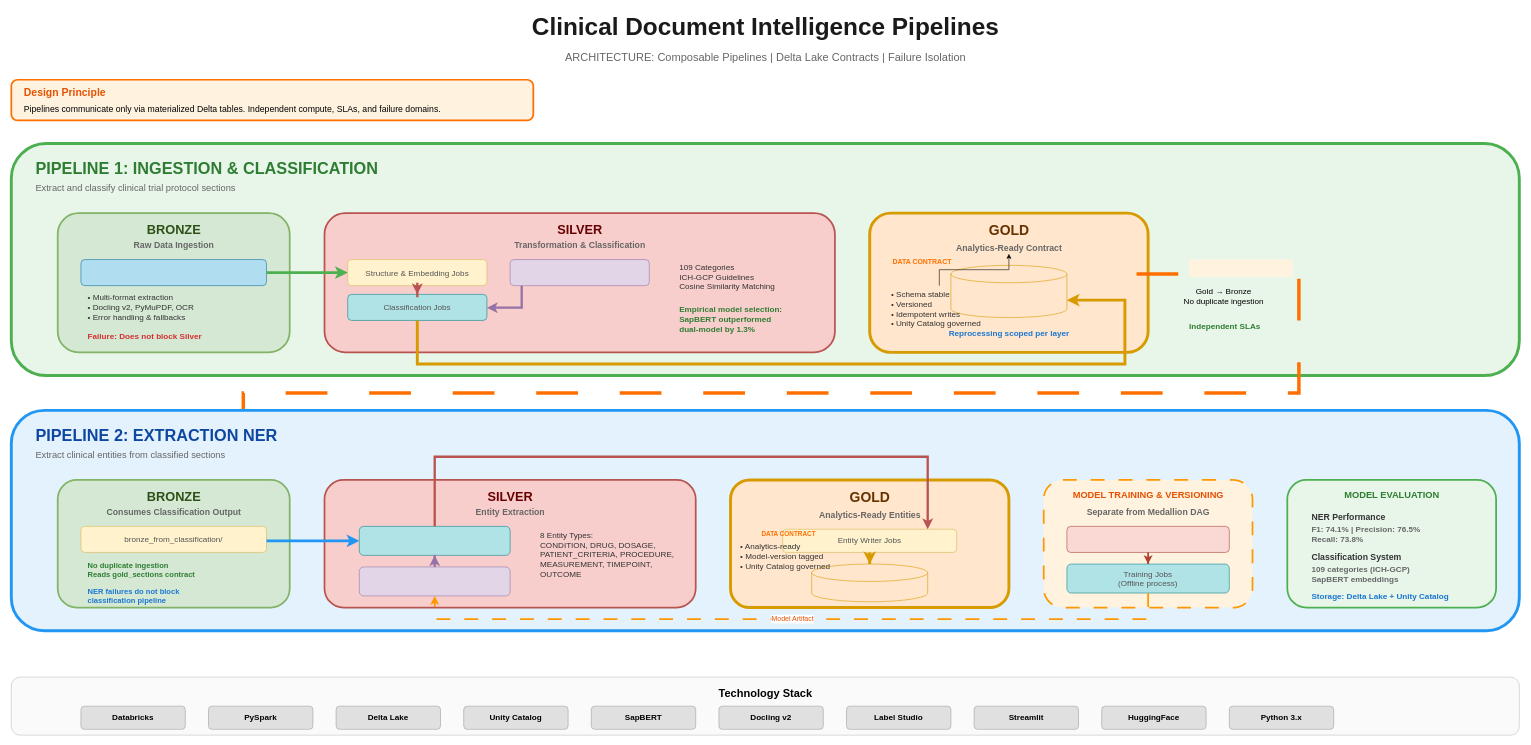
Image size: 1531x745. Some labels were removed from this diagram. The shapes that lost their labels are listed below. From the top down, each one's centre as x and y in pixels, then its label:
At point (173, 272): "Ingestion Jobs".
At point (579, 272): "SapBERT Embeddings".
At point (1240, 268): "PIPELINE COMPOSITION".
At point (1008, 291): "gold_sections".
At point (434, 540): "NER Inference Jobs".
At point (1147, 539): "Label Studio Annotation Platform".
At point (434, 581): "Fine-tuned SapBERT Token Classification".
At point (869, 582): "gold_entities".
